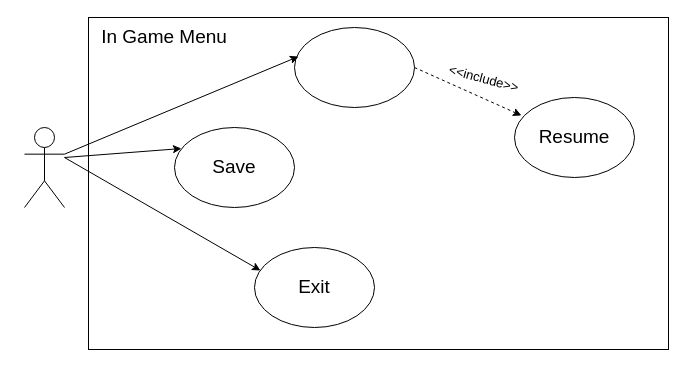
The diagram is 686 pixels wide and 367 high, and some of its shapes have lost their labels. The centre of each missing label's shape, as x and y in pixels:
Pause: the point at 354,67
Player: the point at 44,167
